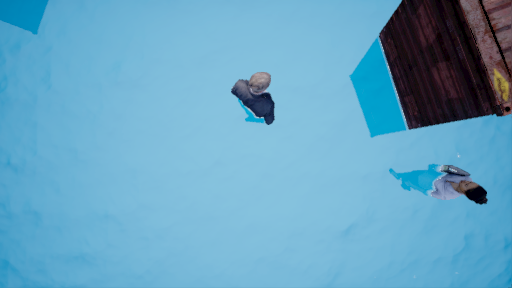person: (392, 160, 485, 213), (233, 72, 274, 123)
